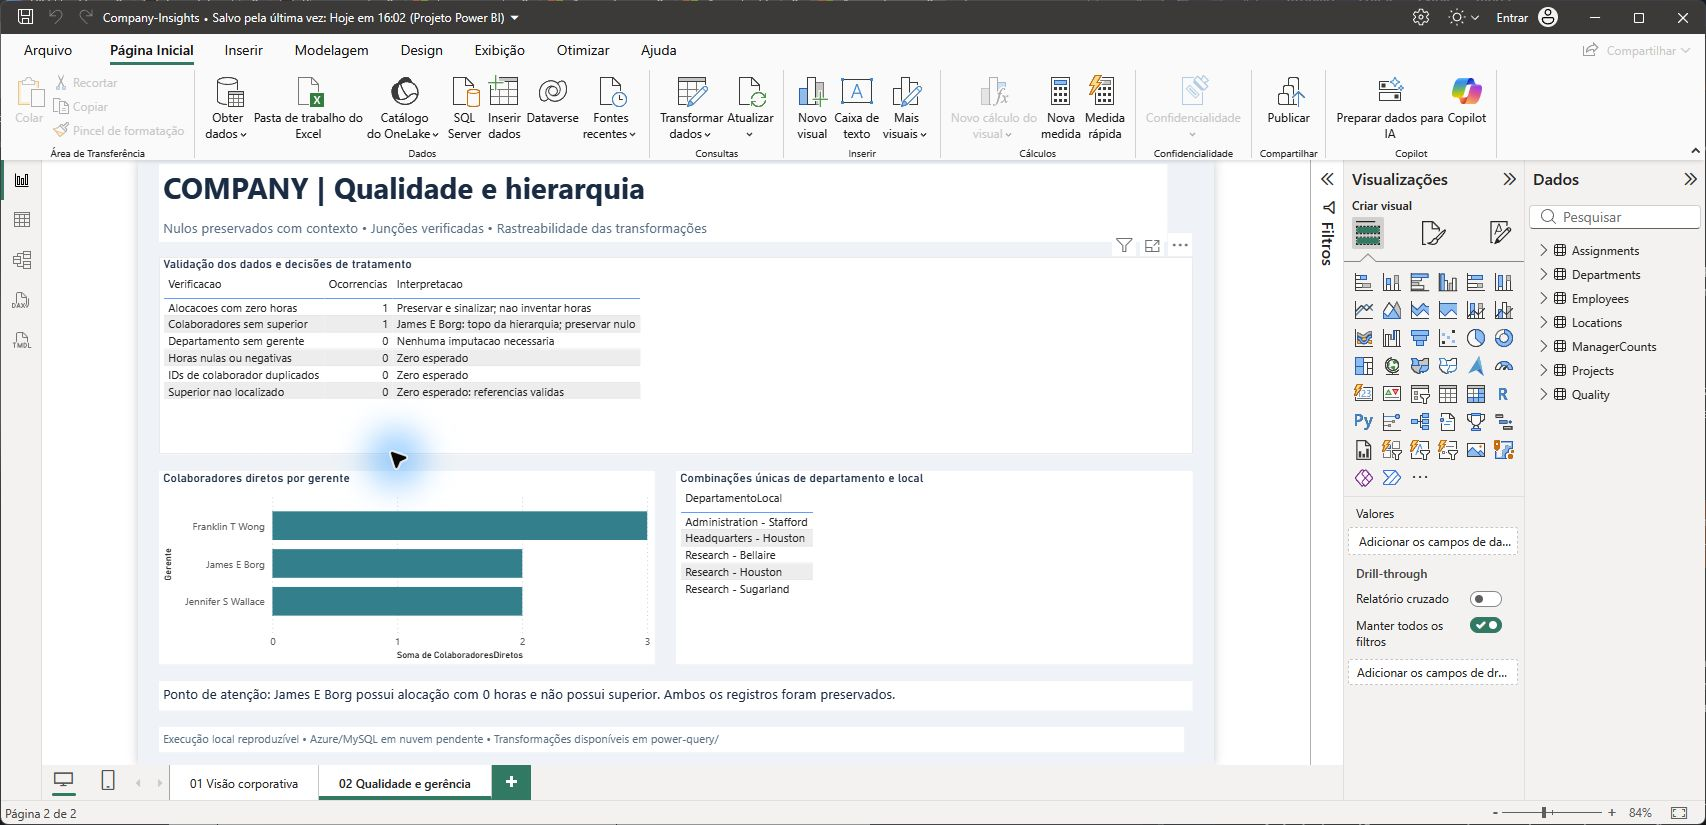

Layout of this report page (visuals, bound fields, positions):
{"tool":"powerbi","page":{"name":"02 Qualidade e gerência","canvas":[1280,720],"ordinal":1},"visuals":[{"type":"textbox","box":[25,5,1200,65],"z":11000},{"type":"textbox","box":[25,65,1200,32],"z":12000},{"type":"tableEx","title":"Validação dos dados e decisões de tratamento","fields":{"Values":["Quality.Verificacao","Quality.Ocorrencias","Quality.Interpretacao"]},"box":[25,115,1230,235],"z":13000},{"type":"clusteredBarChart","title":"Colaboradores diretos por gerente","fields":{"Category":["ManagerCounts.Gerente"],"Y":["Sum(ManagerCounts.ColaboradoresDiretos)"]},"box":[25,370,590,230],"z":14000},{"type":"tableEx","title":"Combinações únicas de departamento e local","fields":{"Values":["Locations.DepartamentoLocal"]},"box":[640,370,615,230],"z":15000},{"type":"textbox","box":[25,620,1230,35],"z":16000},{"type":"textbox","box":[25,675,1220,30],"z":17000}]}

Visuals, with their boxes on the page's 1280x720 design canvas (x1, y1, x2, y2). These are canvas units, not pixel positions in the 1706x825 screenshot, which may show the page scaled, cropped or inside an application window:
textbox: bbox=[25, 5, 1225, 70]
textbox: bbox=[25, 65, 1225, 97]
"Validação dos dados e decisões de tratamento" tableEx: bbox=[25, 115, 1255, 350]
"Colaboradores diretos por gerente" clusteredBarChart: bbox=[25, 370, 615, 600]
"Combinações únicas de departamento e local" tableEx: bbox=[640, 370, 1255, 600]
textbox: bbox=[25, 620, 1255, 655]
textbox: bbox=[25, 675, 1245, 705]
